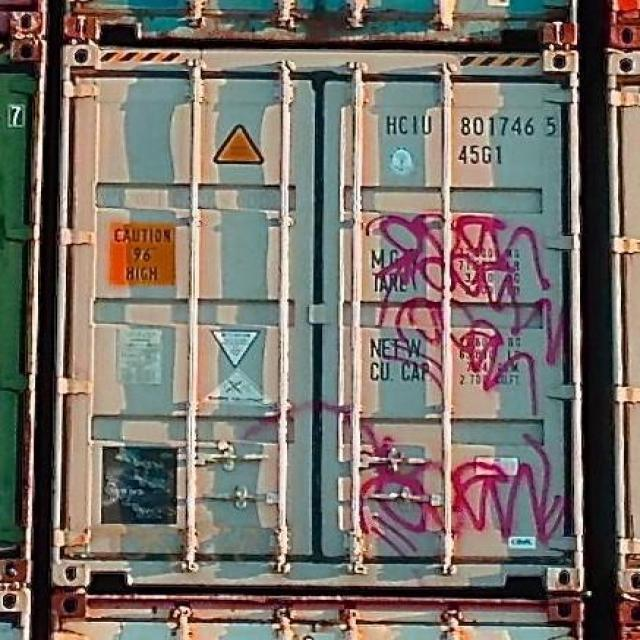ISO: (459, 142, 506, 166)
container_number: (383, 108, 563, 140)
